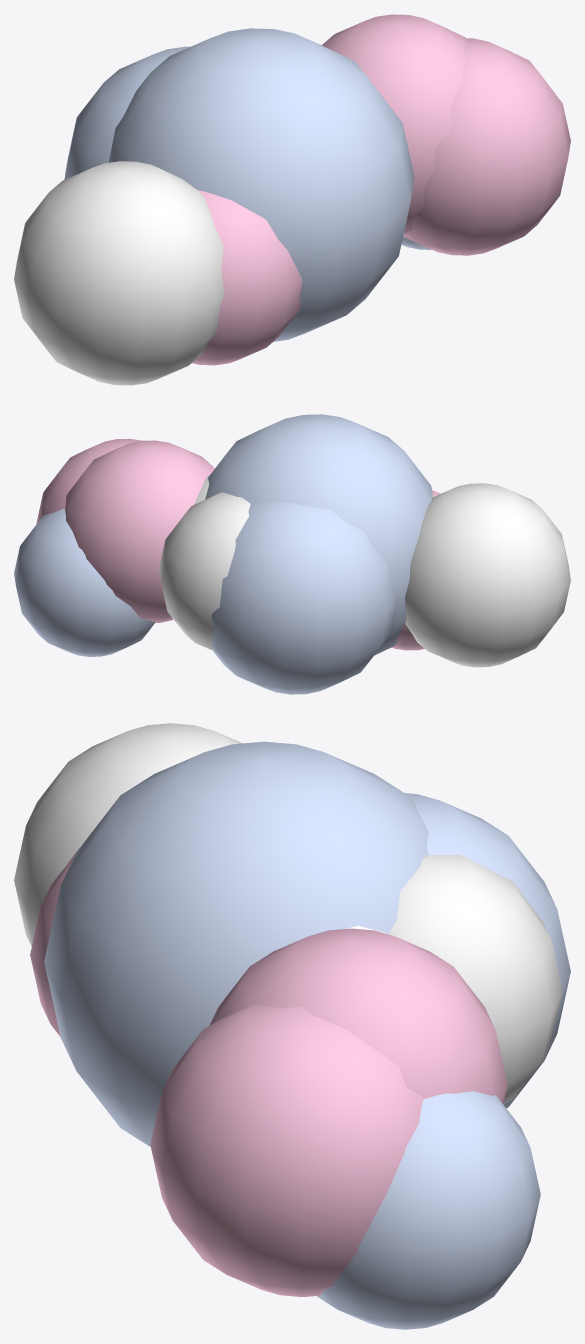
Rendered from Cloud_2.glb.
3 renders of one model, top to bottom at view 1: azimuth 30°, elevation 25°; view 2: azimuth 150°, elevation 25°; view 3: azimuth 270°, elevation 25°, orthographic. The views are drawn at different scales.
Parts seen in each view (by area): view 1: Cloud_2.001; view 2: Cloud_2.001; view 3: Cloud_2.001.
Part boxes in pixels (x1=…): Cloud_2.001: x1=14, y1=14, x2=570, y2=385; Cloud_2.001: x1=14, y1=414, x2=570, y2=694; Cloud_2.001: x1=14, y1=723, x2=570, y2=1329.
Bounding box in the file's own units: 10.95 × 5.25 × 6.56.
